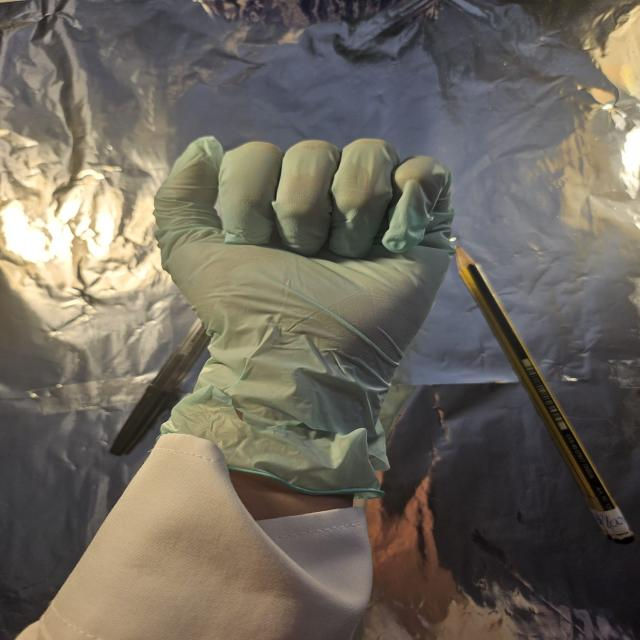gloves_damaged: (158, 136, 458, 497)
